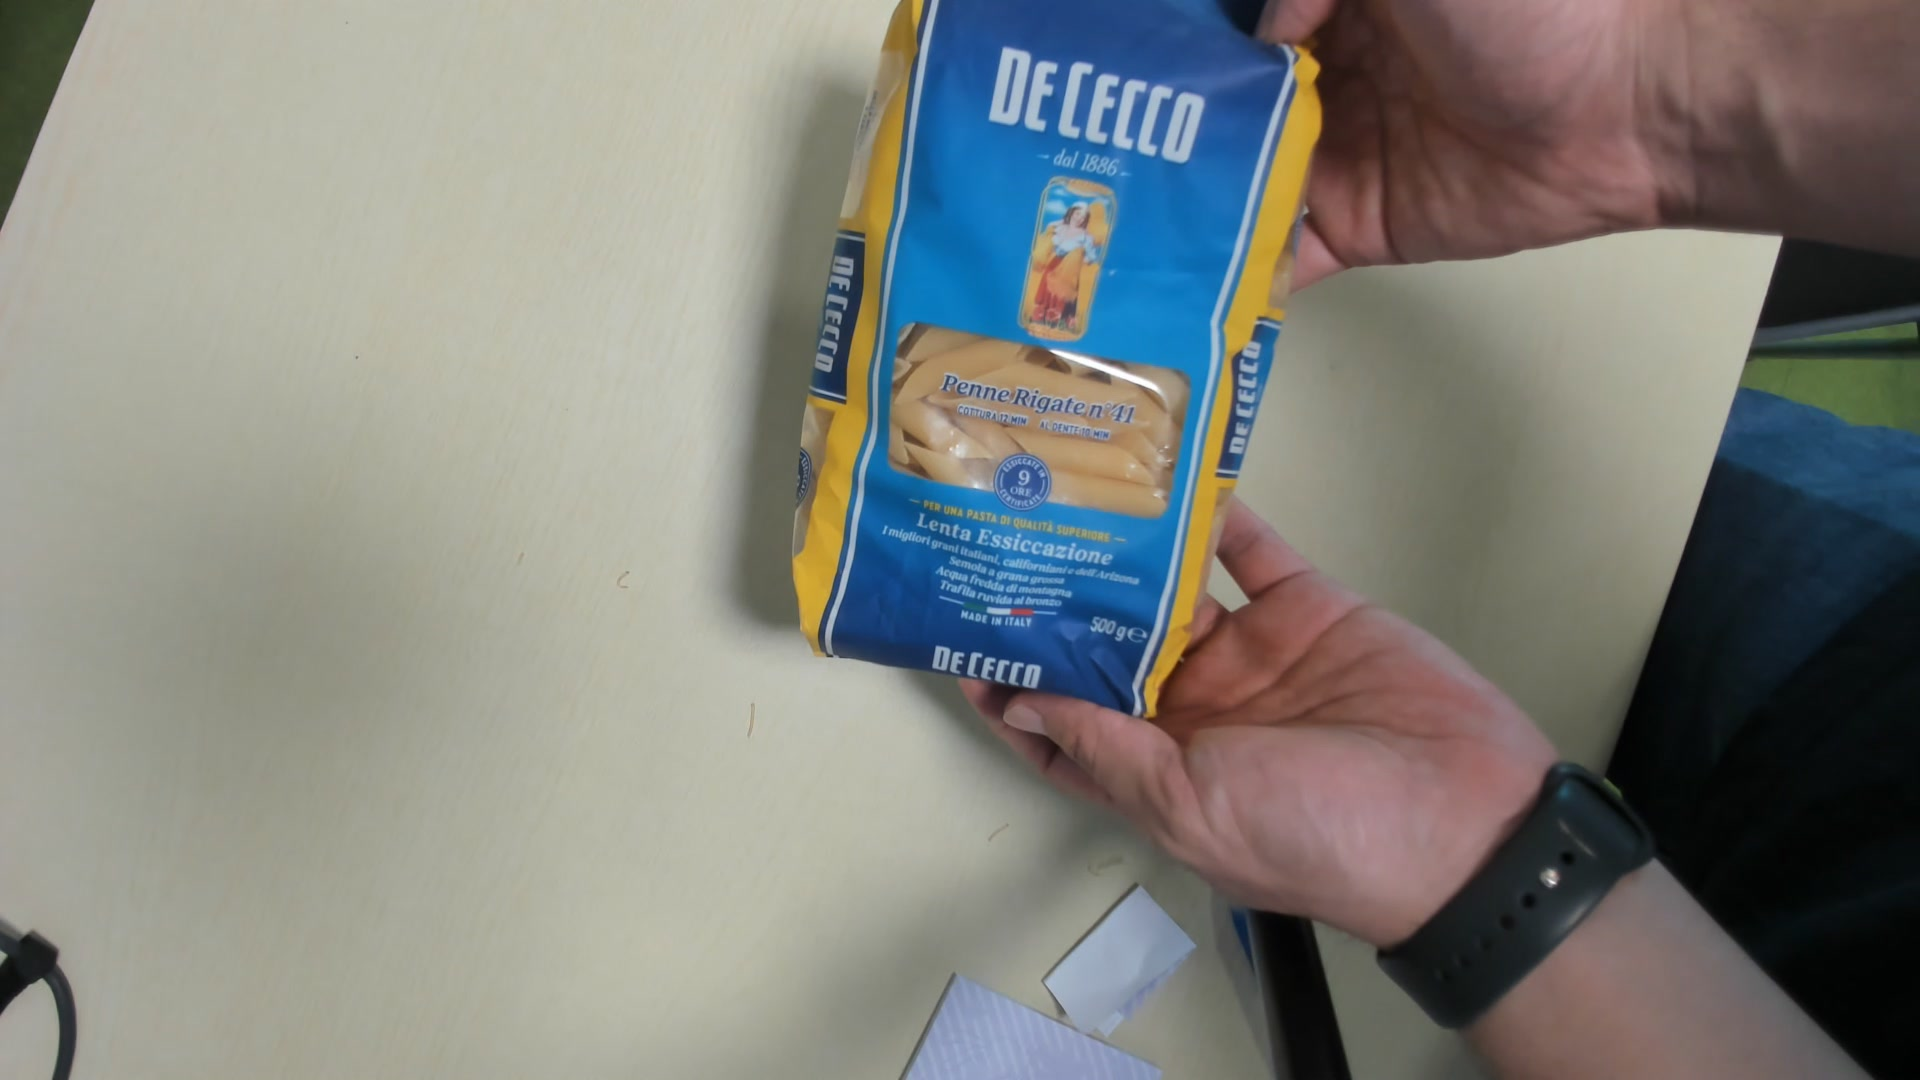Pasta_500-599g_NonHalal_NonHealthy: (786, 3, 1323, 727)
